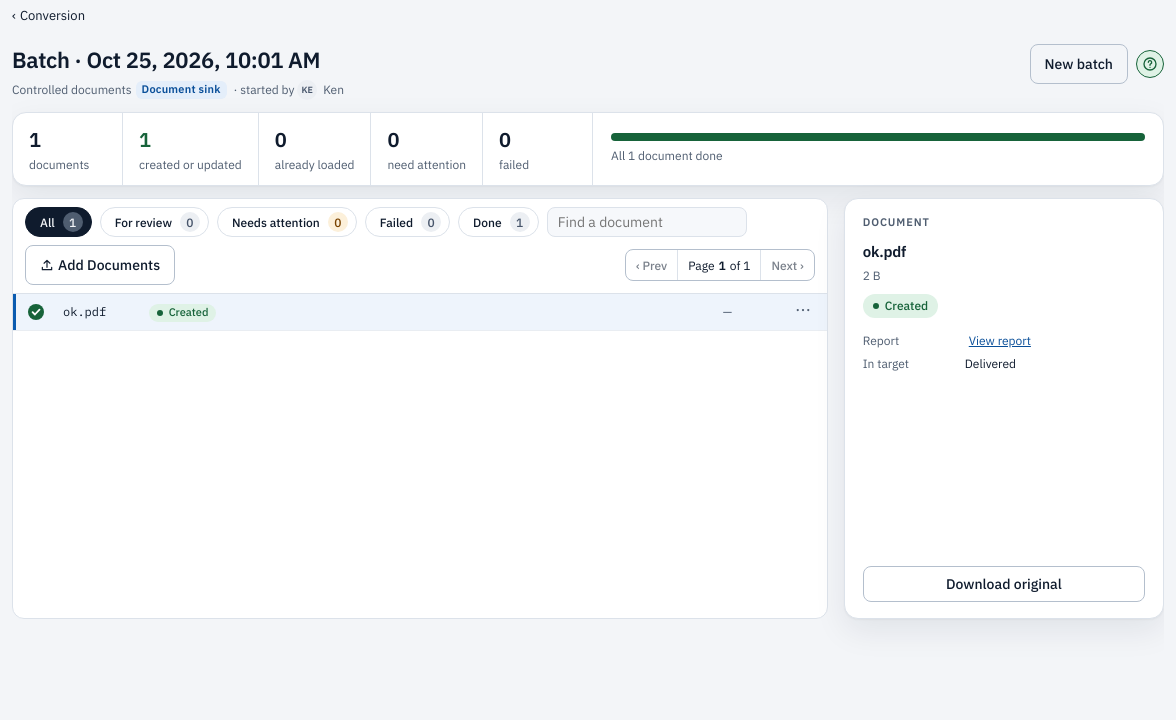
Test: the Conversion tab: the batch view › says so when nothing awaits review
This screenshot has width=1176, height=720.
Click the button "For review 0" at (154, 222), box [100,207,209,237]
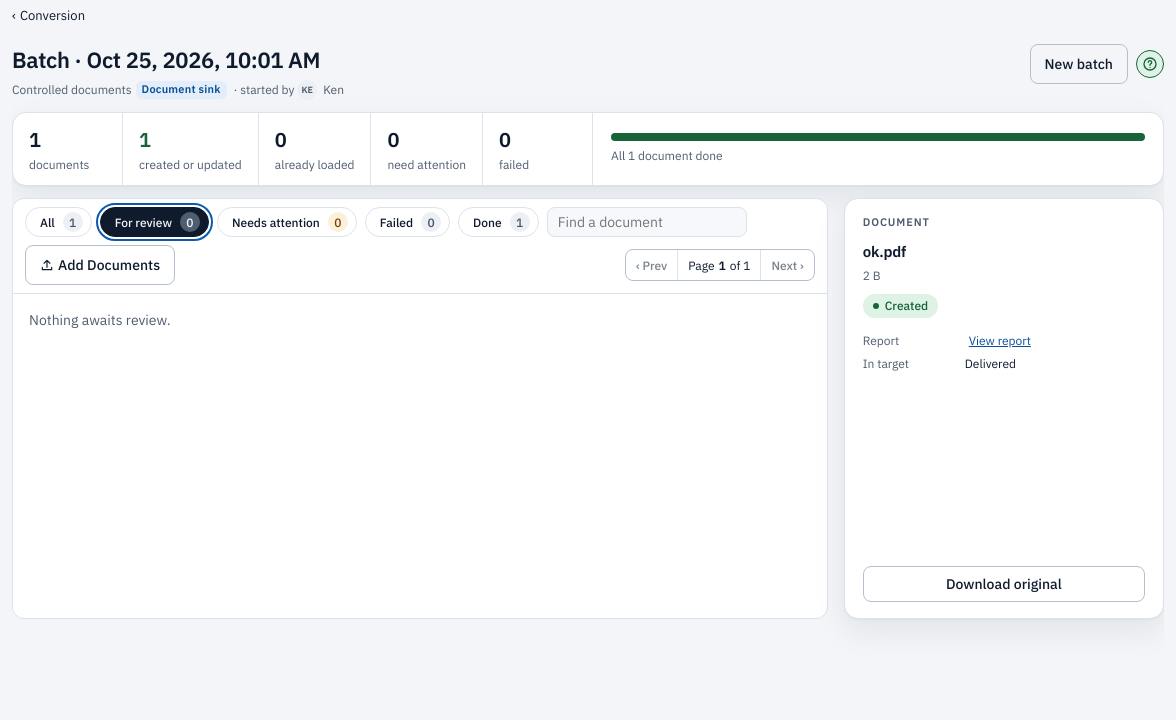
Result: the text "Nothing awaits review." is shown at [29,311,171,329]
